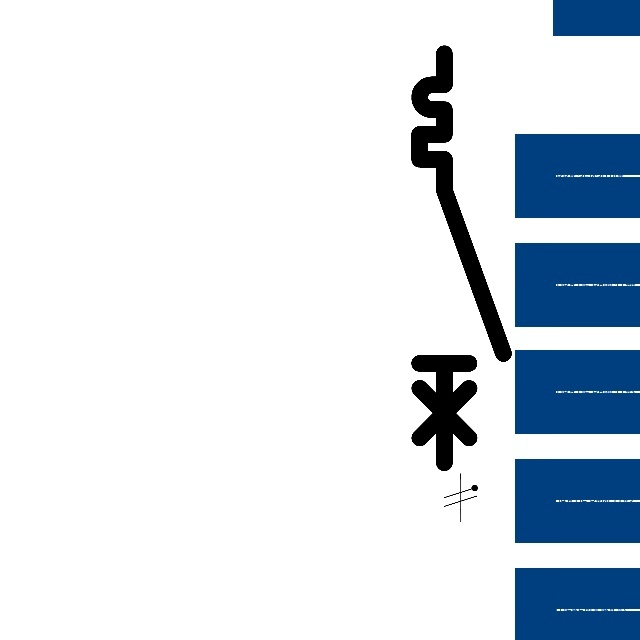interruptor_termomagnetico: (409, 43, 514, 473)
